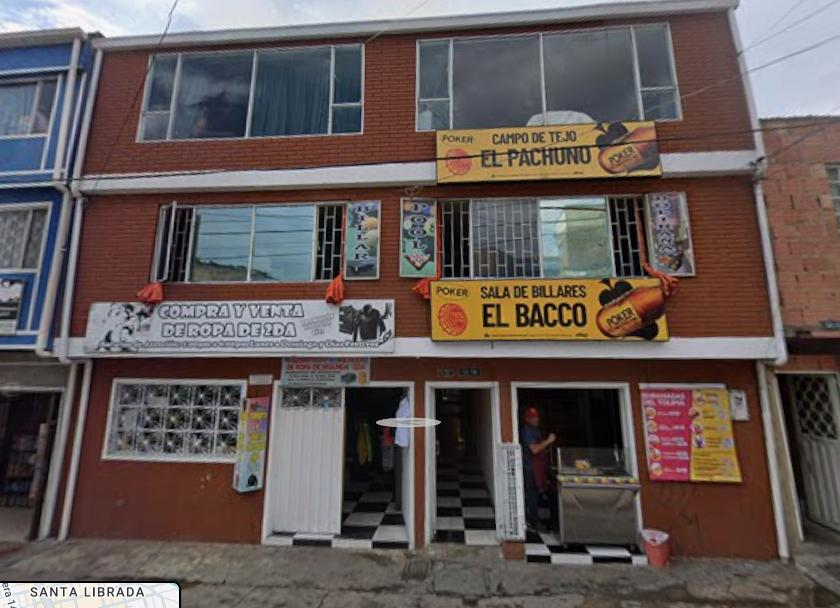casa: (58, 0, 839, 558)
